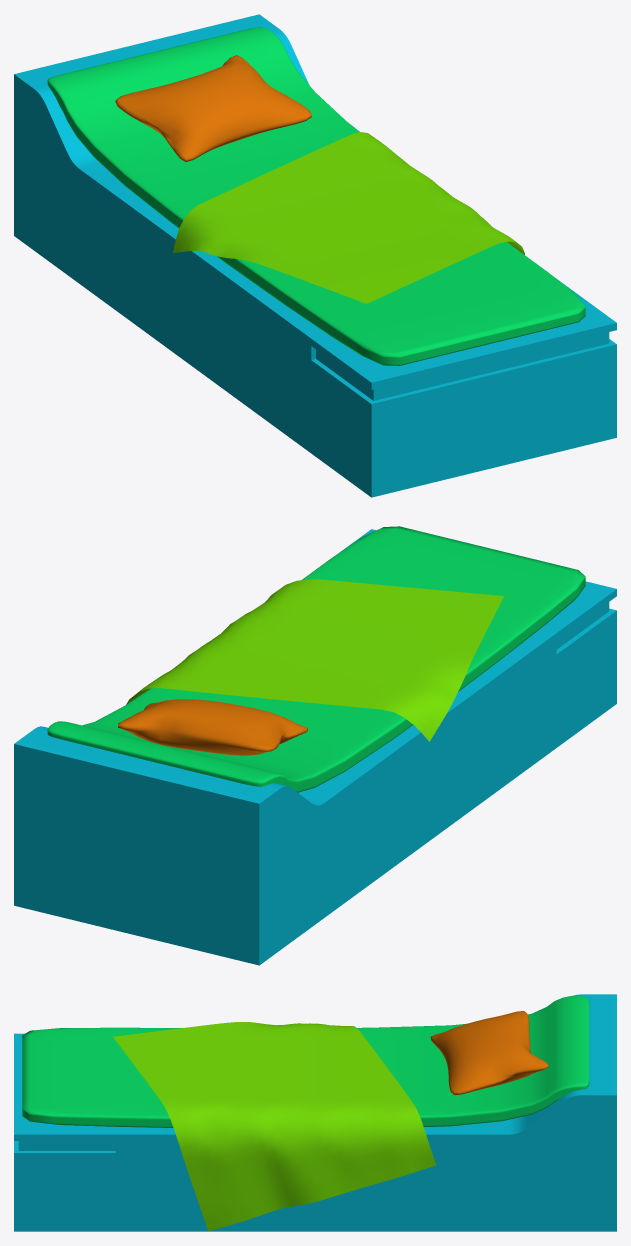
File: (Non Hollow) Beds.fbx
3 views of the same model, one above another, from view 1: azimuth 30°, elevation 25°; view 2: azimuth 150°, elevation 25°; view 3: azimuth 270°, elevation 25° (orthographic). The views are drawn at different scales.
Visible parts, largest first — view 1: Box004; view 2: Box004; view 3: Box004.
Part boxes in pixels (<box>): Box004: <box>14,14,616,497</box>; Box004: <box>14,526,616,965</box>; Box004: <box>14,994,616,1231</box>.
Size of the model in its own units: 0.9588 by 0.6143 by 2.27.
